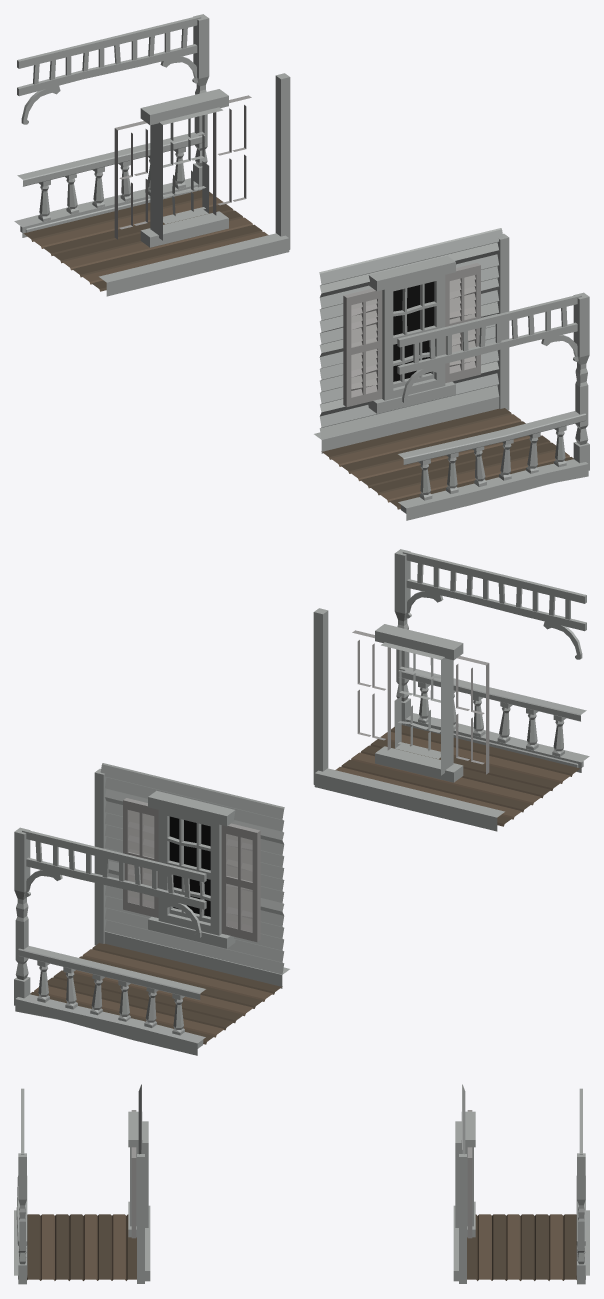
File: SM_Bld_Mansion_Middle_02.glb
The picture shows the model from 3 angles, top to bottom: view 1: azimuth 30°, elevation 25°; view 2: azimuth 150°, elevation 25°; view 3: azimuth 270°, elevation 25°; orthographic projection. The views are drawn at different scales.
Parts seen in each view (by area): view 1: SM_Bld_Mansion_Middle_02; view 2: SM_Bld_Mansion_Middle_02; view 3: SM_Bld_Mansion_Middle_02.
Part boxes in pixels (x1=…): SM_Bld_Mansion_Middle_02: x1=14, y1=14, x2=589, y2=520; SM_Bld_Mansion_Middle_02: x1=14, y1=549, x2=589, y2=1055; SM_Bld_Mansion_Middle_02: x1=14, y1=1084, x2=589, y2=1284.
Size of the model in its own units: 0.0311 by 0.029 by 0.1118.
